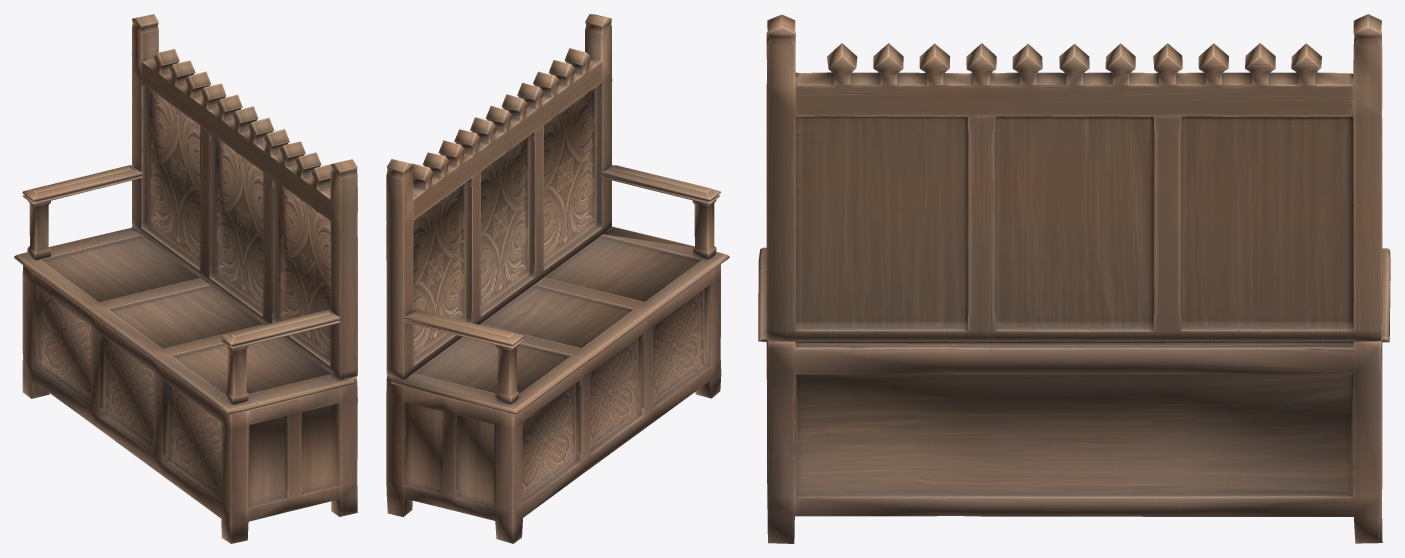
The model's file is SM_Noble_Bench_01.fbx.
3 views of the same model, side by side, from view 1: azimuth 30°, elevation 25°; view 2: azimuth 150°, elevation 25°; view 3: azimuth 270°, elevation 25° (orthographic). The views are drawn at different scales.
Parts seen in each view (by area): view 1: SM_Noble_Bench_01_LOD0; view 2: SM_Noble_Bench_01_LOD0; view 3: SM_Noble_Bench_01_LOD0.
Boxes of the visible parts, <box> form: SM_Noble_Bench_01_LOD0: <box>14,14,357,543</box>; SM_Noble_Bench_01_LOD0: <box>386,14,729,543</box>; SM_Noble_Bench_01_LOD0: <box>758,14,1390,543</box>.
Size of what is drawn, in the model's own units: 0.8277 by 2.08 by 2.3.
